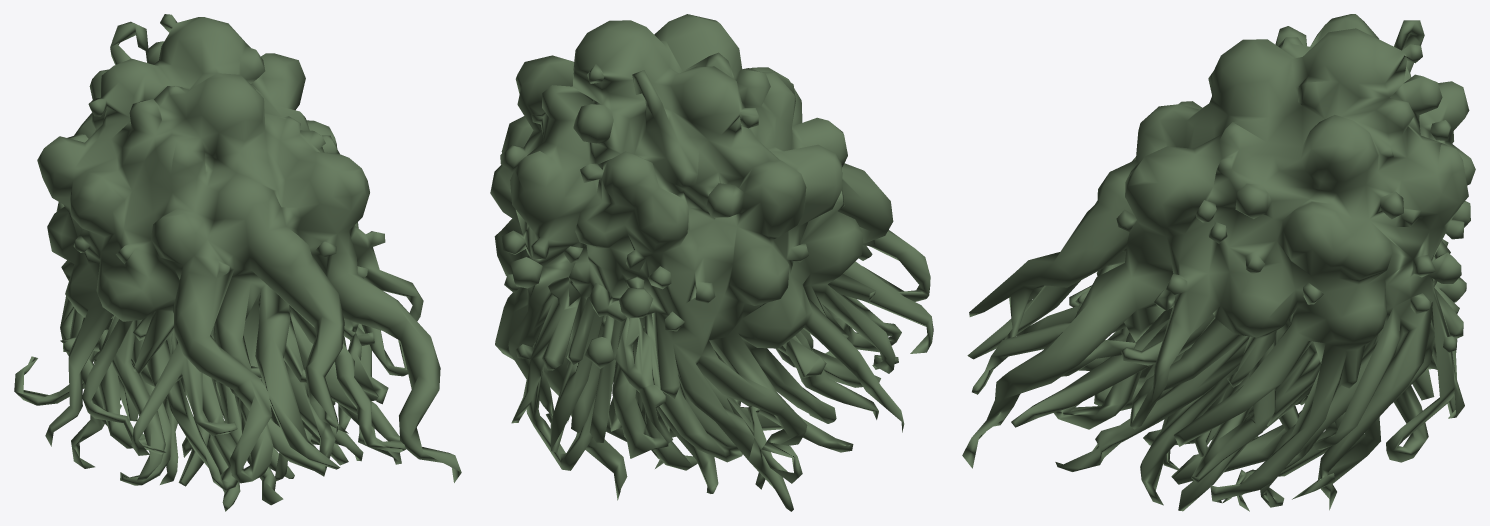
File: yog-643cc4df.glb
3 renders of one model, left to right at view 1: azimuth 30°, elevation 25°; view 2: azimuth 150°, elevation 25°; view 3: azimuth 270°, elevation 25°, orthographic. The views are drawn at different scales.
Parts seen in each view (by area): view 1: Mesh_0; view 2: Mesh_0; view 3: Mesh_0.
Part boxes in pixels (x1,y1,x2,y2): Mesh_0: [14, 14, 461, 511]; Mesh_0: [490, 14, 933, 511]; Mesh_0: [962, 14, 1475, 511].
Bounding box in the file's own units: 0.7555 × 0.9158 × 0.9075.
